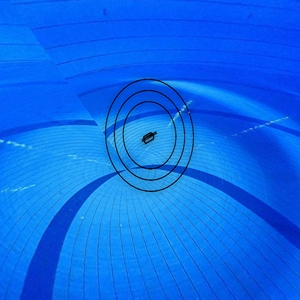circle: (103, 77, 198, 194)
submarine: (139, 127, 161, 148)
